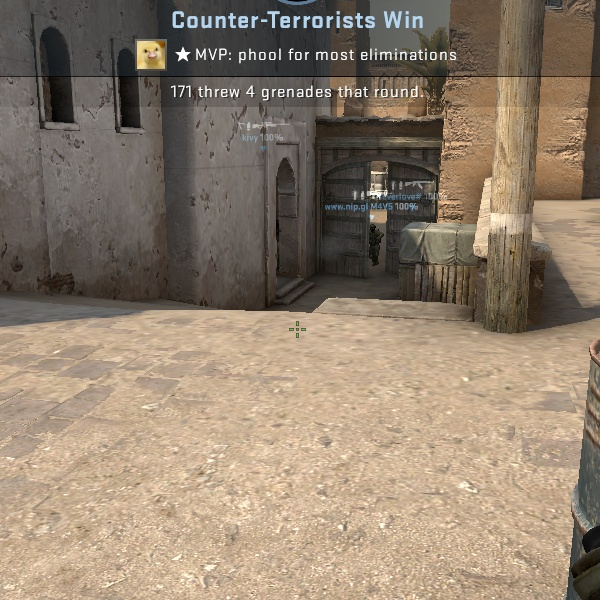ct_body: (369, 223, 383, 266)
ct_head: (369, 224, 376, 232)
